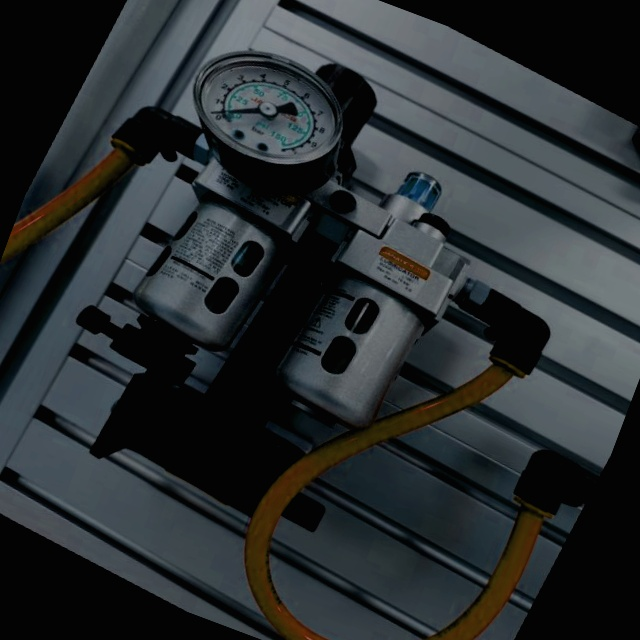FRL unit: (0, 0, 621, 634)
push button: (154, 15, 381, 222)
